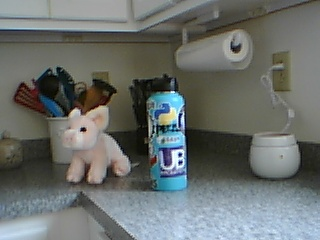piggy: (61, 104, 133, 186)
